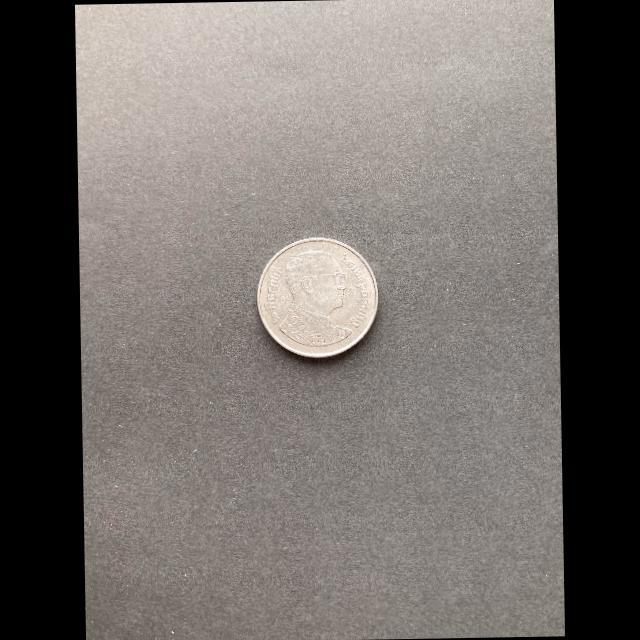1 Bath: (256, 234, 385, 364)
